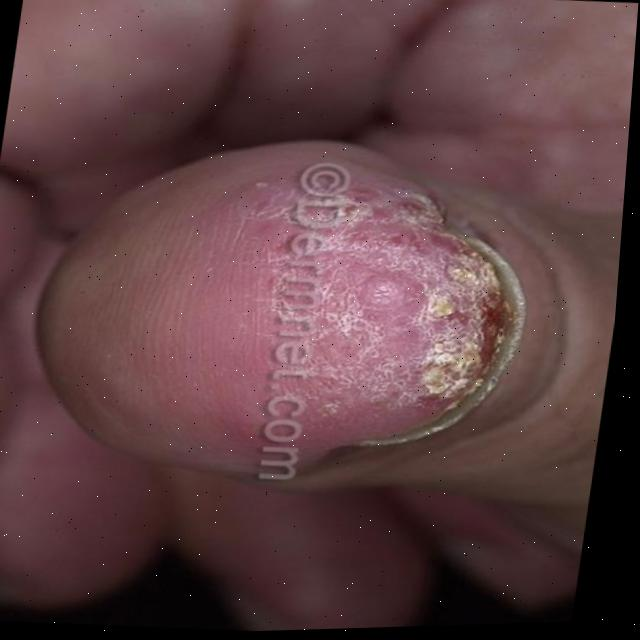Eczema: (330, 204, 506, 405)
